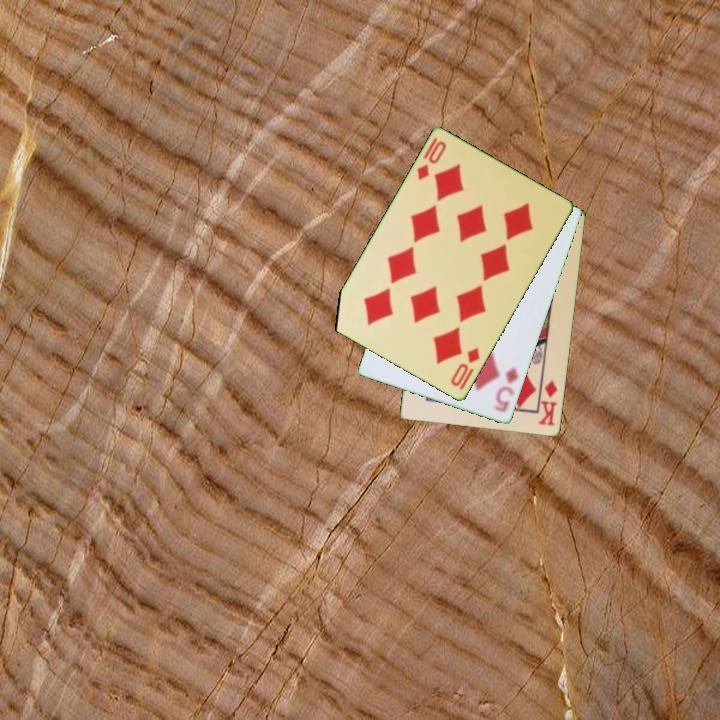10d: (447, 345, 483, 390), (413, 138, 449, 183)
5d: (489, 364, 522, 415)
Kd: (535, 377, 561, 429)
